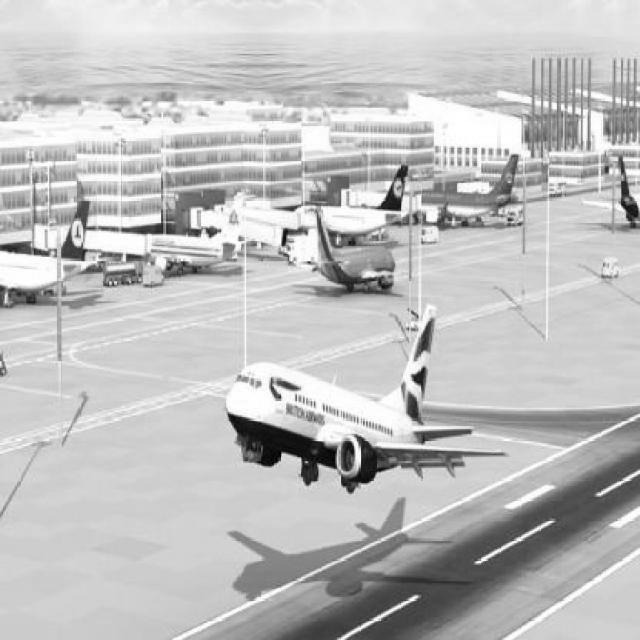aeroplane: (217, 300, 509, 495), (2, 195, 96, 303), (413, 151, 525, 234), (310, 206, 399, 294), (146, 221, 237, 276), (578, 152, 638, 232)
